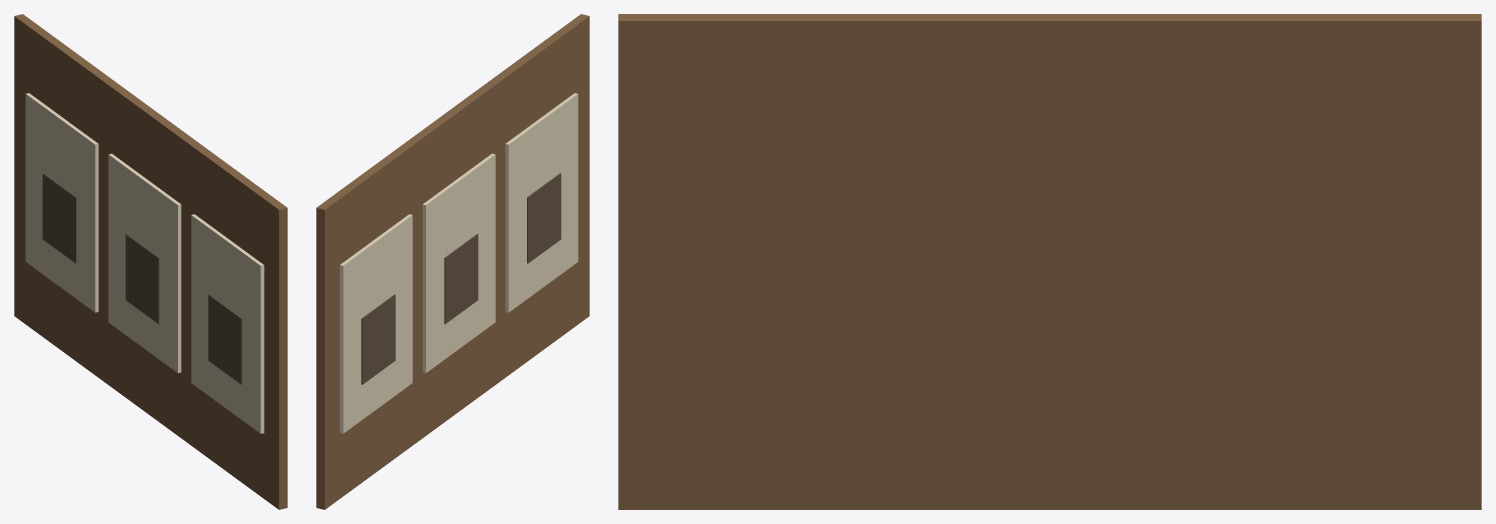
The model's file is wanted_board.glb.
The picture shows the model from 3 angles, left to right: view 1: azimuth 30°, elevation 25°; view 2: azimuth 150°, elevation 25°; view 3: azimuth 270°, elevation 25°; orthographic projection. The views are drawn at different scales.
Parts seen in each view (by area): view 1: Box1, Box4, Box6, Box2, Box3, Box7, Box5; view 2: Box1, Box2, Box4, Box6, Box3, Box7, Box5; view 3: Box1.
Part boxes in pixels (left/top/right/bottom): Box1: left=14, top=14, right=287, bottom=509; Box4: left=108, top=153, right=181, bottom=373; Box6: left=191, top=214, right=264, bottom=433; Box2: left=25, top=93, right=98, bottom=312; Box3: left=42, top=173, right=76, bottom=263; Box7: left=208, top=294, right=242, bottom=384; Box5: left=125, top=234, right=159, bottom=324; Box1: left=316, top=14, right=589, bottom=509; Box2: left=339, top=214, right=412, bottom=433; Box4: left=422, top=153, right=495, bottom=373; Box6: left=505, top=93, right=578, bottom=312; Box3: left=361, top=294, right=395, bottom=384; Box7: left=527, top=173, right=561, bottom=263; Box5: left=444, top=234, right=478, bottom=324; Box1: left=618, top=14, right=1481, bottom=509.
Bounding box in the file's own units: 0.046 × 1 × 1.6.
